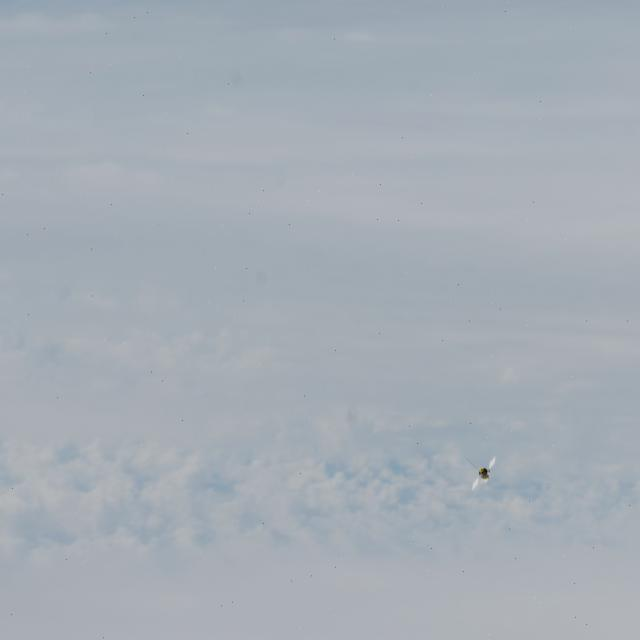satellite: (468, 452, 506, 496)
